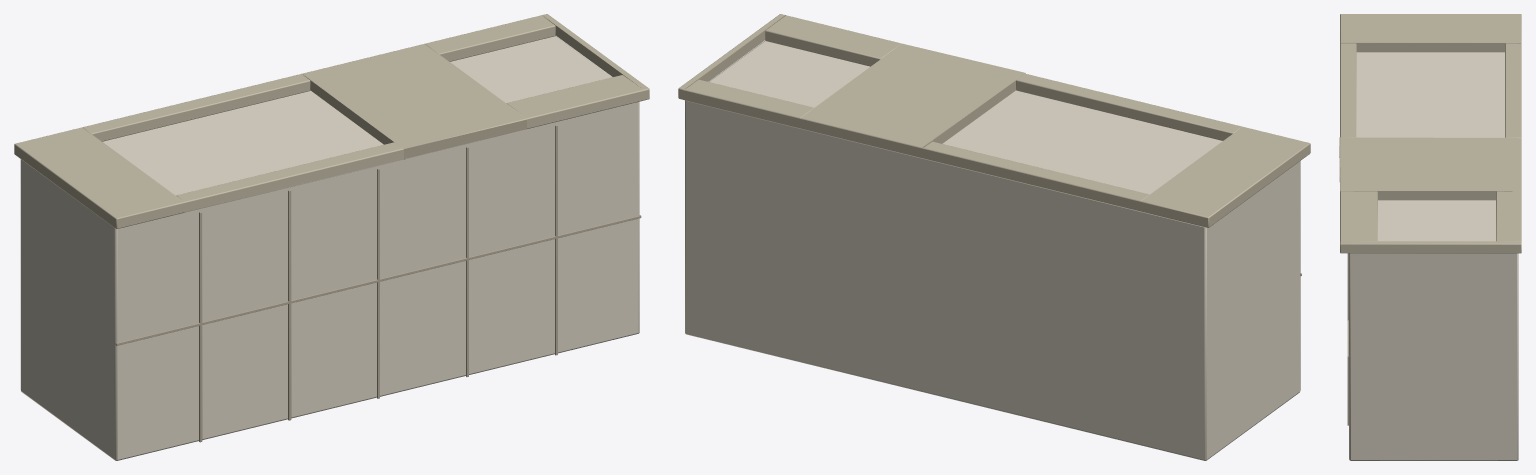
File: MatBepXay_180.glb
The picture shows the model from 3 angles, left to right: view 1: azimuth 30°, elevation 25°; view 2: azimuth 150°, elevation 25°; view 3: azimuth 270°, elevation 25°; orthographic projection. The views are drawn at different scales.
Visible parts, largest first — view 1: MatBepXay; view 2: MatBepXay; view 3: MatBepXay.
Boxes of the visible parts, box(x1,y1,x2,y2) form: MatBepXay: box(14, 14, 649, 460); MatBepXay: box(678, 14, 1310, 460); MatBepXay: box(1339, 14, 1521, 460).
Bounding box in the file's own units: 1.8 × 0.8 × 0.6028.
